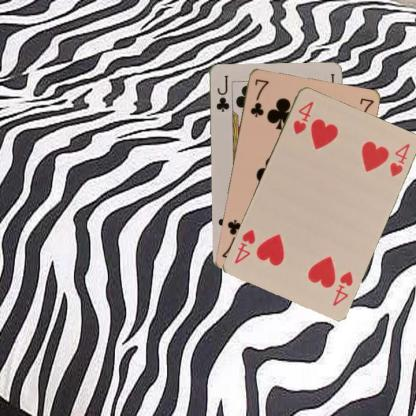4h: (290, 98, 315, 136), (330, 268, 354, 307)
7c: (247, 76, 270, 118)
Jc: (214, 72, 230, 112)
